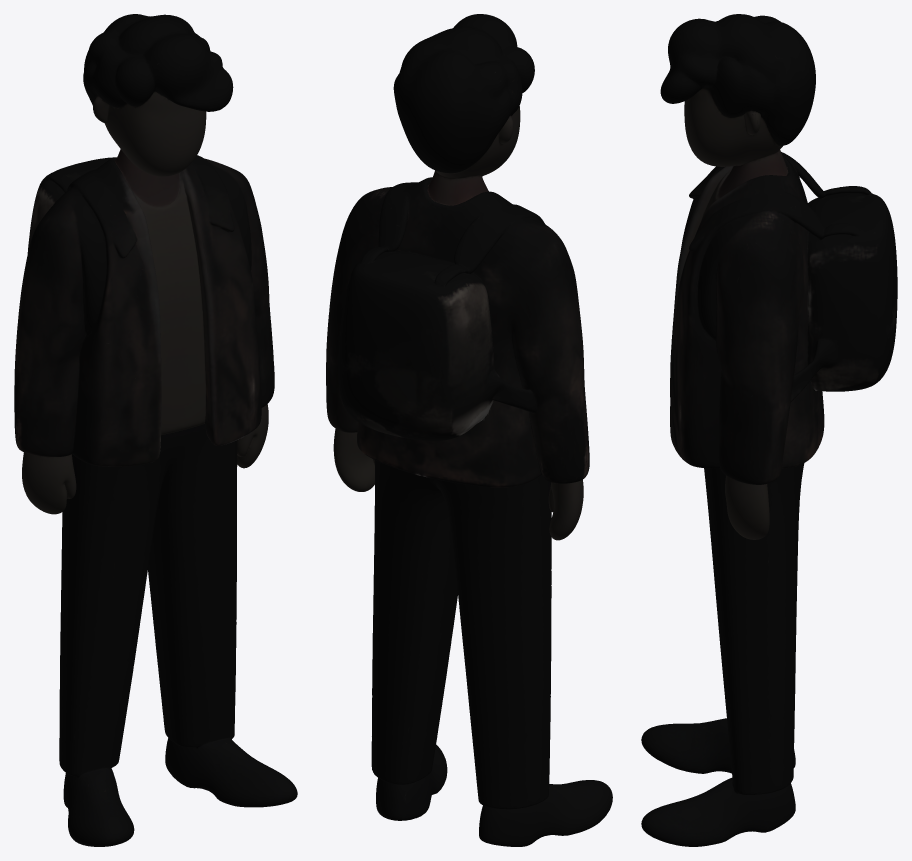
File: passenger-b.glb
The picture shows the model from 3 angles, left to right: view 1: azimuth 30°, elevation 25°; view 2: azimuth 150°, elevation 25°; view 3: azimuth 270°, elevation 25°; orthographic projection.
Size of the model in its own units: 0.3422 by 1 by 0.2983.
Materials: 1 (1 with a texture image).
